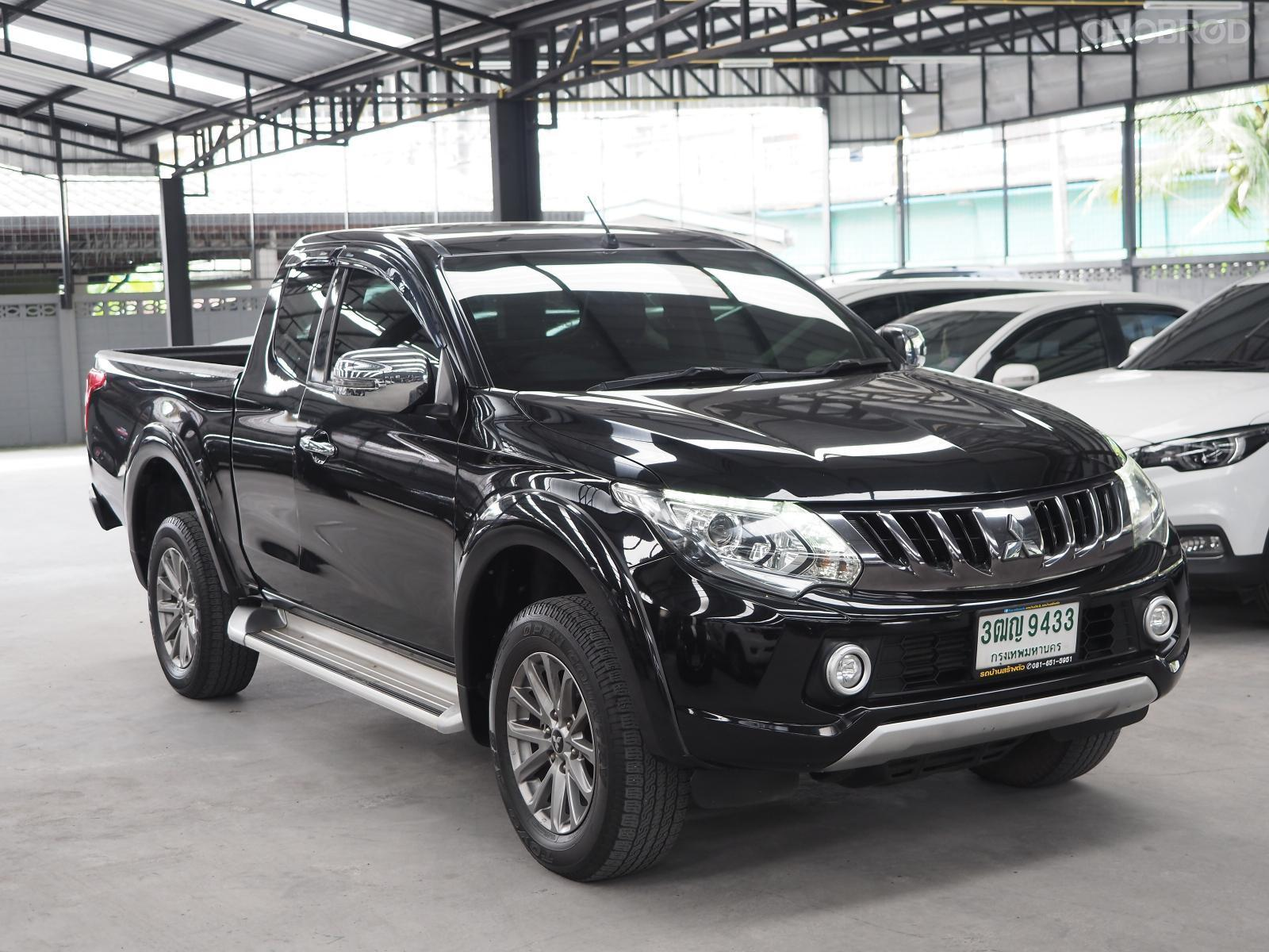license-plate: (966, 599, 1091, 684)
